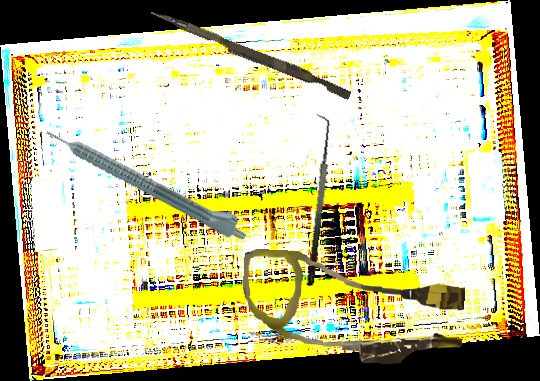Cannula: (239, 248, 467, 368)
Handpiece: (42, 115, 254, 246)
Pusher: (147, 8, 354, 101)
Spatula Surgical: (292, 114, 339, 287)
